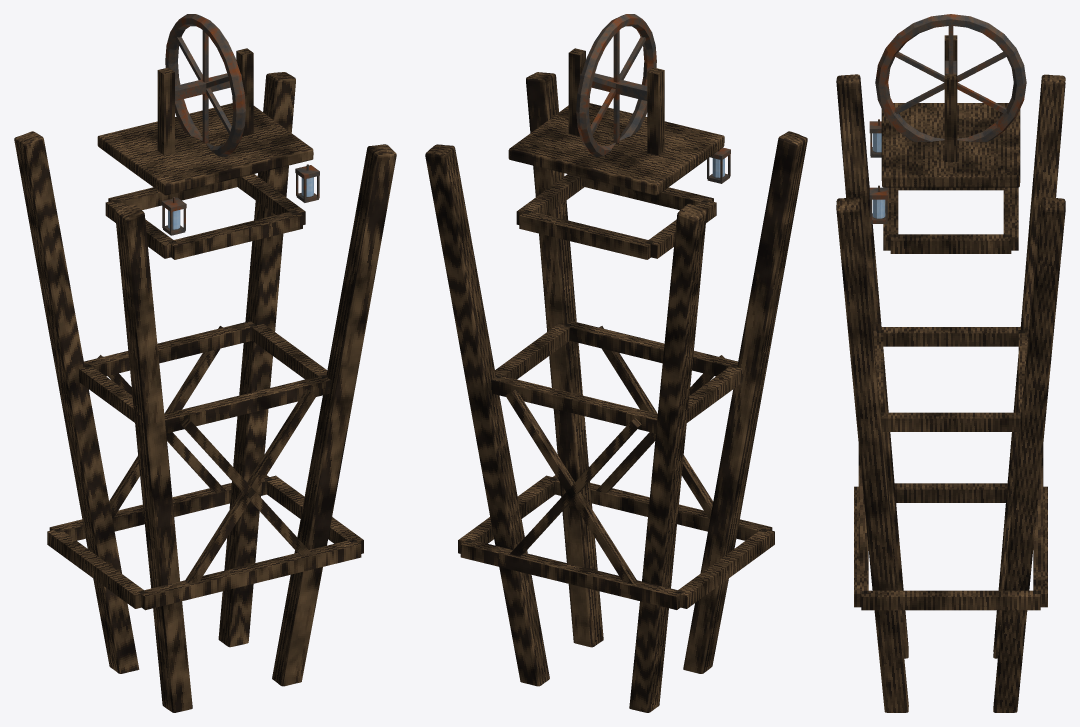
Rendered from mine_headframe.glb.
3 renders of one model, left to right at view 1: azimuth 30°, elevation 25°; view 2: azimuth 150°, elevation 25°; view 3: azimuth 270°, elevation 25°, orthographic.
Parts seen in each view (by area): view 1: mine_headframe; view 2: mine_headframe; view 3: mine_headframe.
Boxes of the visible parts, box(x1,y1,x2,y2) form: mine_headframe: box(14, 14, 396, 712); mine_headframe: box(425, 14, 807, 712); mine_headframe: box(836, 14, 1065, 712).
Bounding box in the file's own units: 3.47 × 7.97 × 2.48.
Materials: 3 (3 with a texture image).
